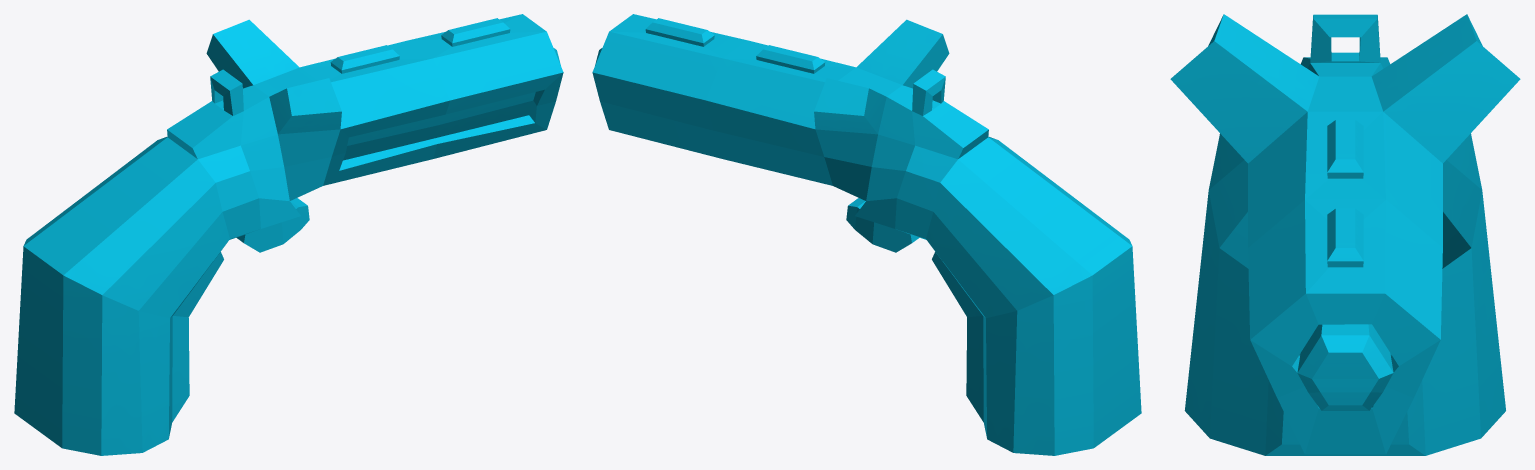
Rendered from Revolver.fbx.
3 renders of one model, left to right at view 1: azimuth 30°, elevation 25°; view 2: azimuth 150°, elevation 25°; view 3: azimuth 270°, elevation 25°, orthographic. The views are drawn at different scales.
Parts seen in each view (by area): view 1: Revolver.001; view 2: Revolver.001; view 3: Revolver.001.
Part boxes in pixels (x1=…): Revolver.001: x1=14, y1=14, x2=563, y2=455; Revolver.001: x1=592, y1=14, x2=1141, y2=455; Revolver.001: x1=1170, y1=14, x2=1520, y2=455.
Size of the model in its own units: 4.65 by 2.79 by 1.67.
1 material, 1 textured.
